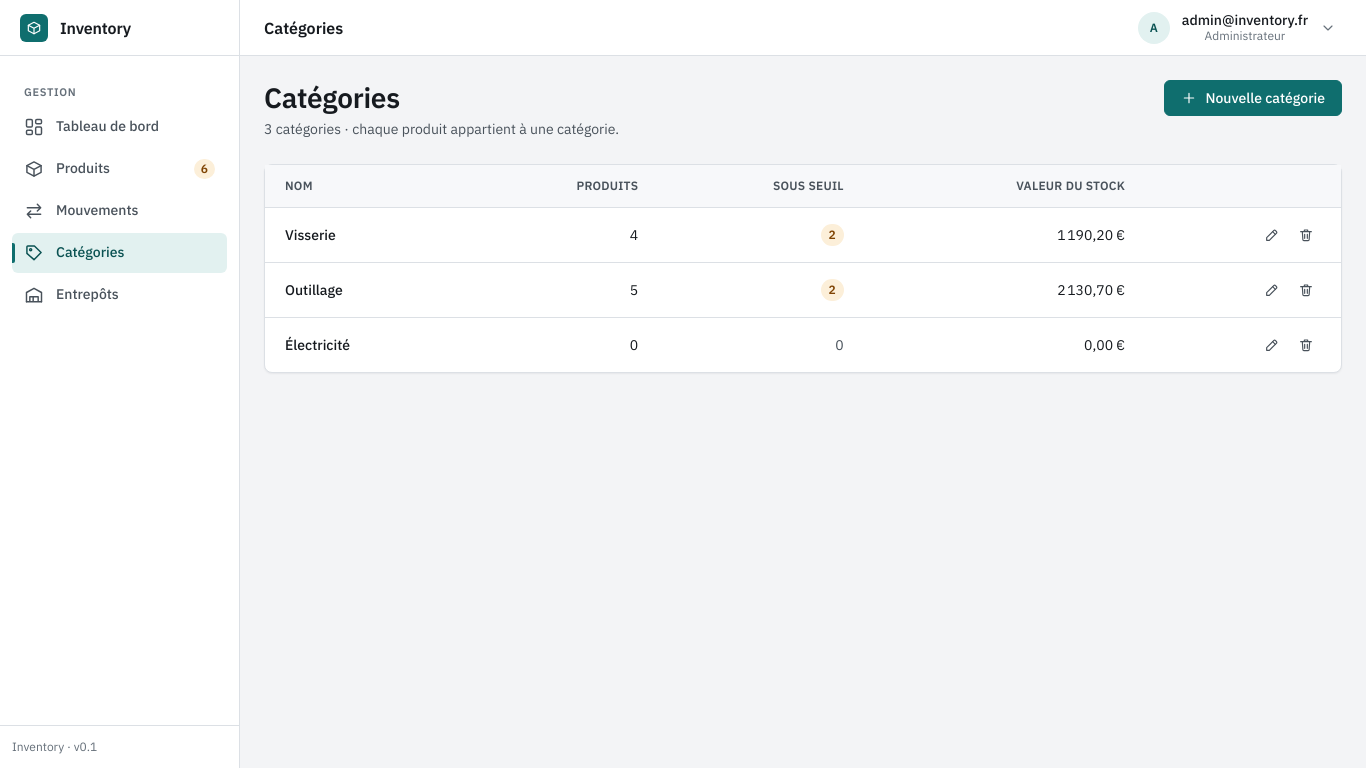
Test: CategoriesPage › create and edit › edits a category, whose own name is not a duplicate
The image size is (1366, 768).
Check: the heading "Catégories" is shown, box [264,79,400,116]
Click the button named "Modifier Visserie" at point(1272, 235), box [1257,220,1287,250]
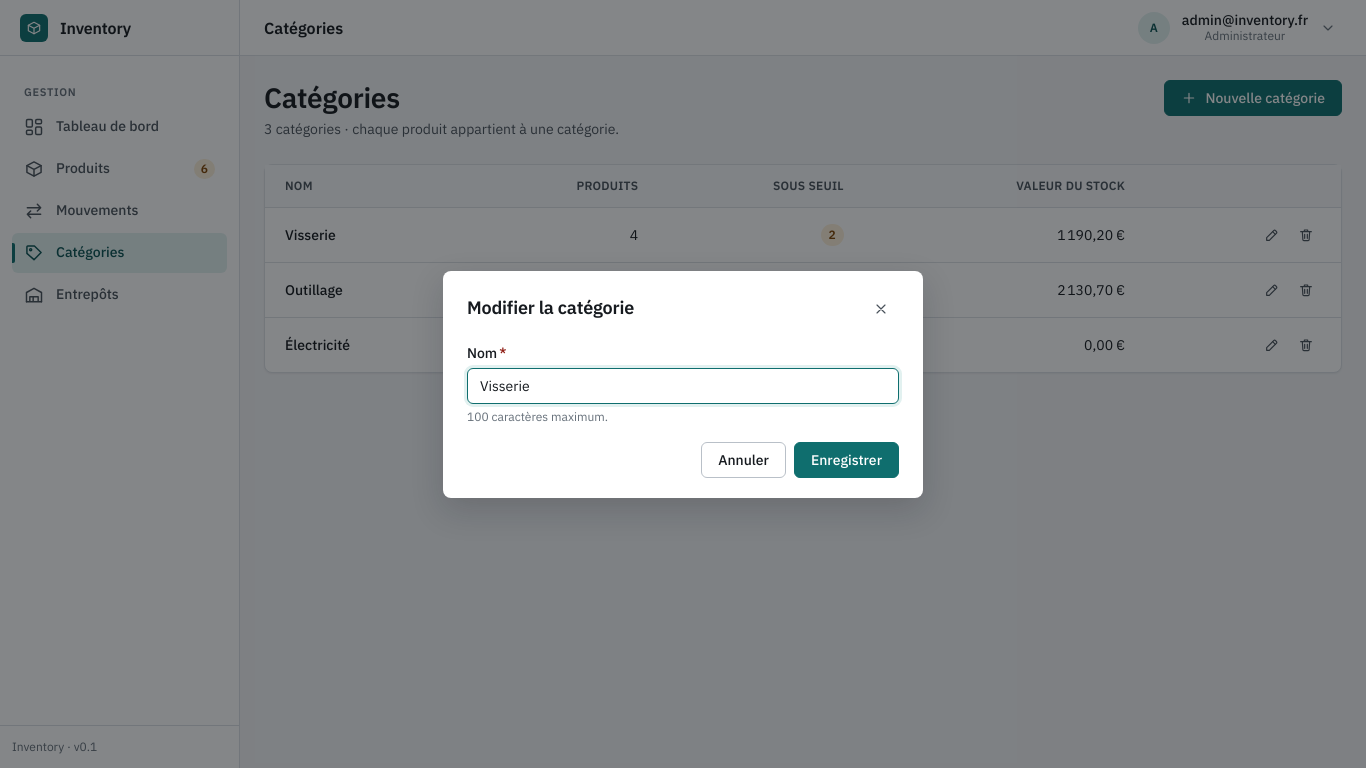
Check: the field labelled "Nom*" holds "Visserie"
Replace the text in the field labelled "Nom*" with "visserie" at point(683, 386), box [467,368,899,404]
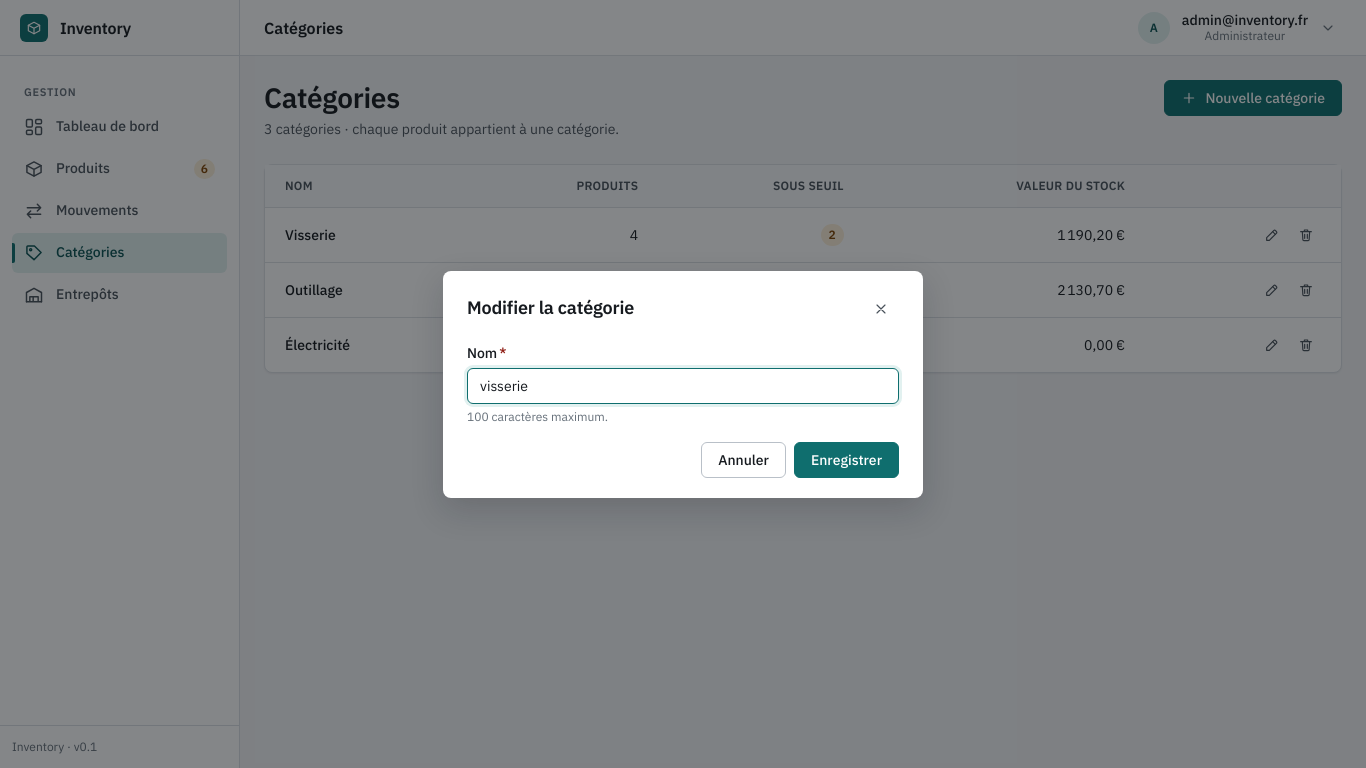
Press Tab
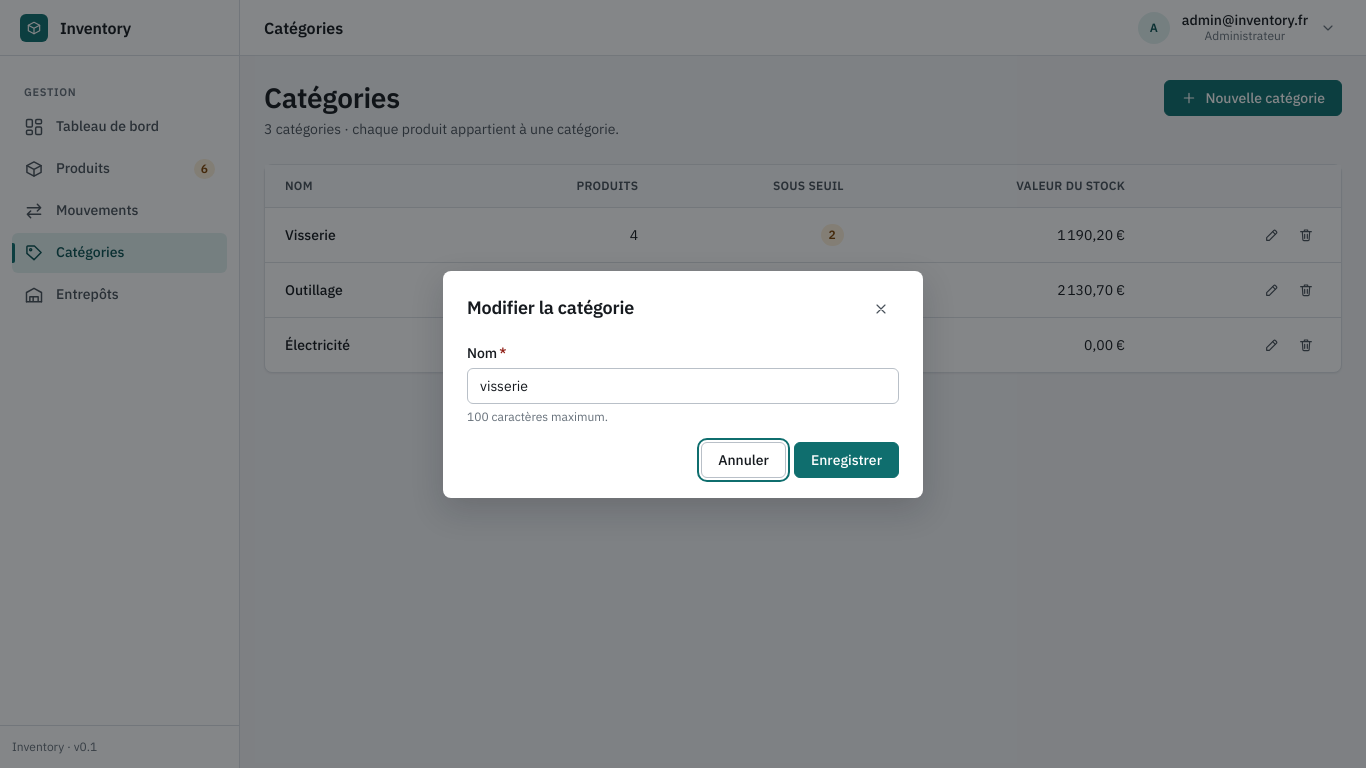
Replace the text in the field labelled "Nom*" with "Visserie et boulonnerie" at point(683, 386), box [467,368,899,404]
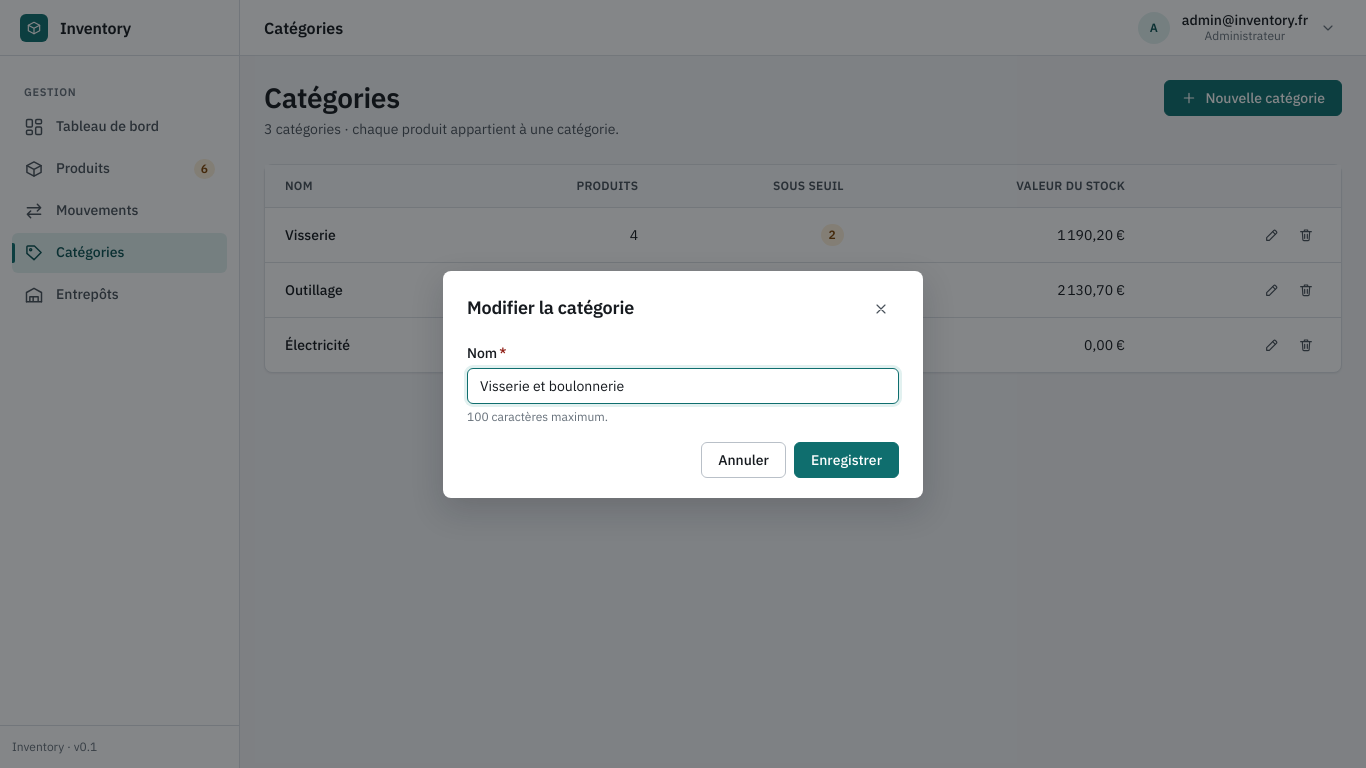
Click the button "Enregistrer" at point(846, 460), box [794,442,899,478]
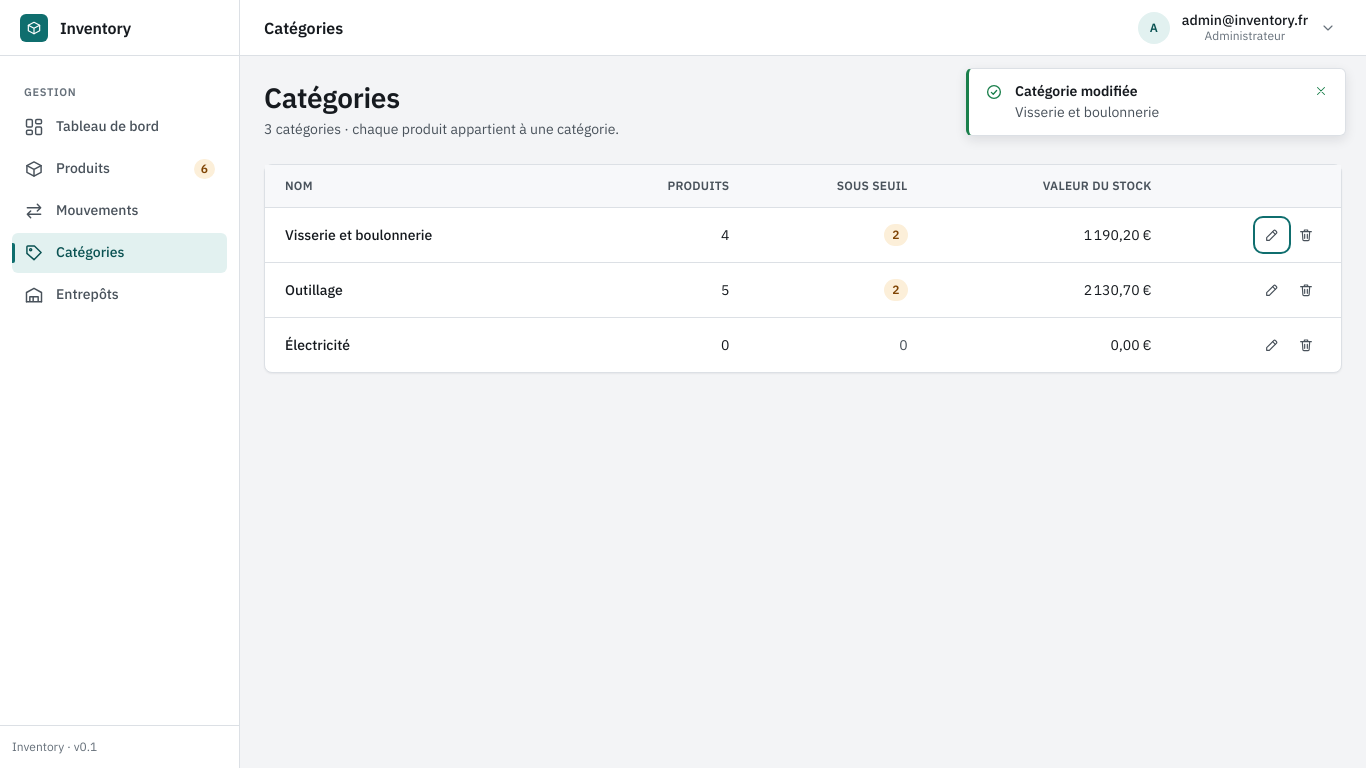
Check: the message shows "Catégorie modifiée", box [1015,82,1138,100]
Check: the message shows "Visserie et boulonnerie", box [1015,103,1159,121]
Check: the link "Visserie et boulonnerie" is shown, box [285,226,432,244]
